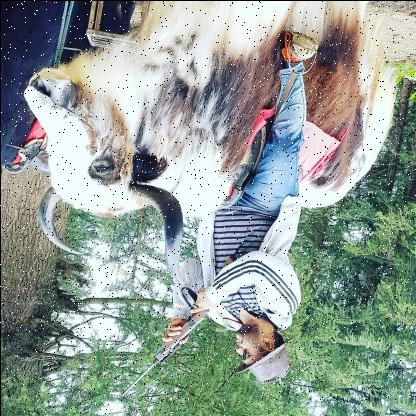rifle: (119, 253, 236, 397)
